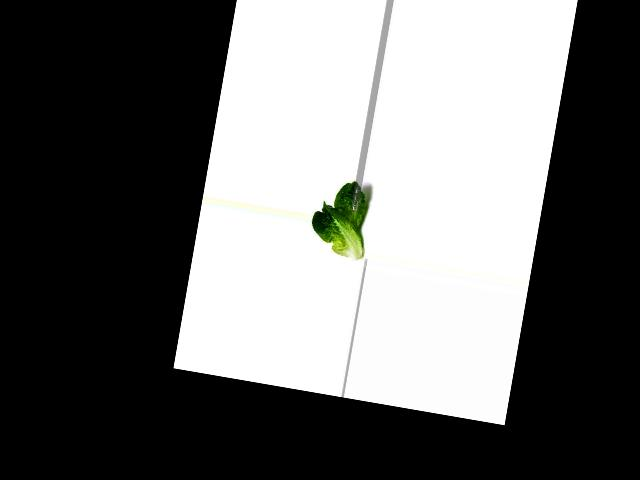lettuce: (306, 173, 372, 262)
